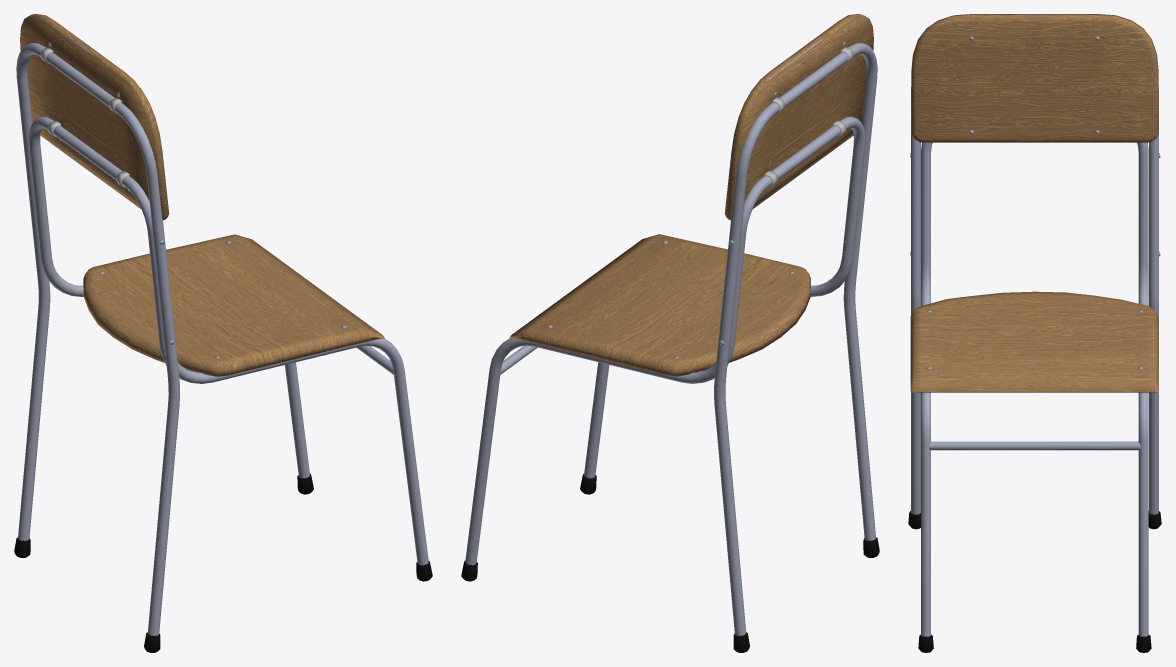
File: Jap_chair.FBX
The picture shows the model from 3 angles, left to right: view 1: azimuth 30°, elevation 25°; view 2: azimuth 150°, elevation 25°; view 3: azimuth 270°, elevation 25°; orthographic projection. The views are drawn at different scales.
Parts seen in each view (by area): view 1: shool_chair; view 2: shool_chair; view 3: shool_chair.
Boxes of the visible parts, x1,y1,x2,y2 form: shool_chair: (14,14,432,652); shool_chair: (461,14,879,652); shool_chair: (908,14,1161,652).
Size of the model in its own units: 44.21 by 79.75 by 35.8.
